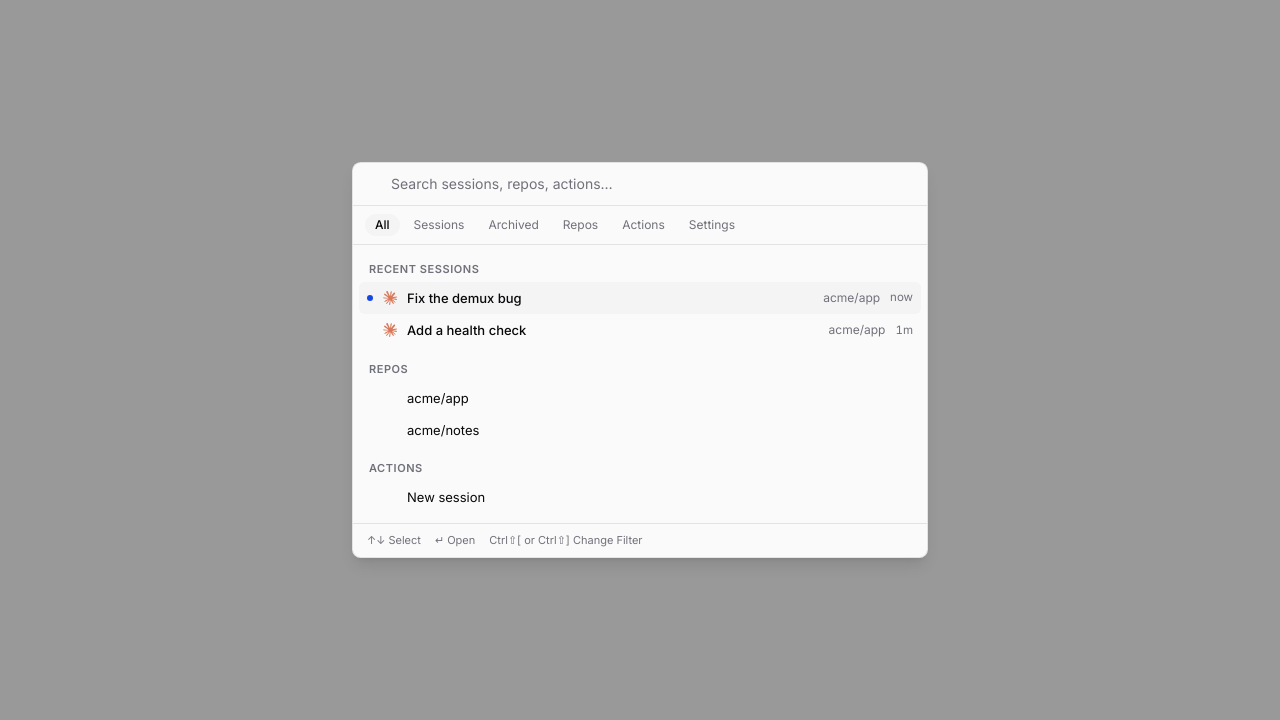
Scenario: SearchPalette › shows archived sessions on the archived tab
Check: the option "old work" is not shown
Click the tab "Archived" at [514, 225], box left=478, top=214, right=549, bottom=236
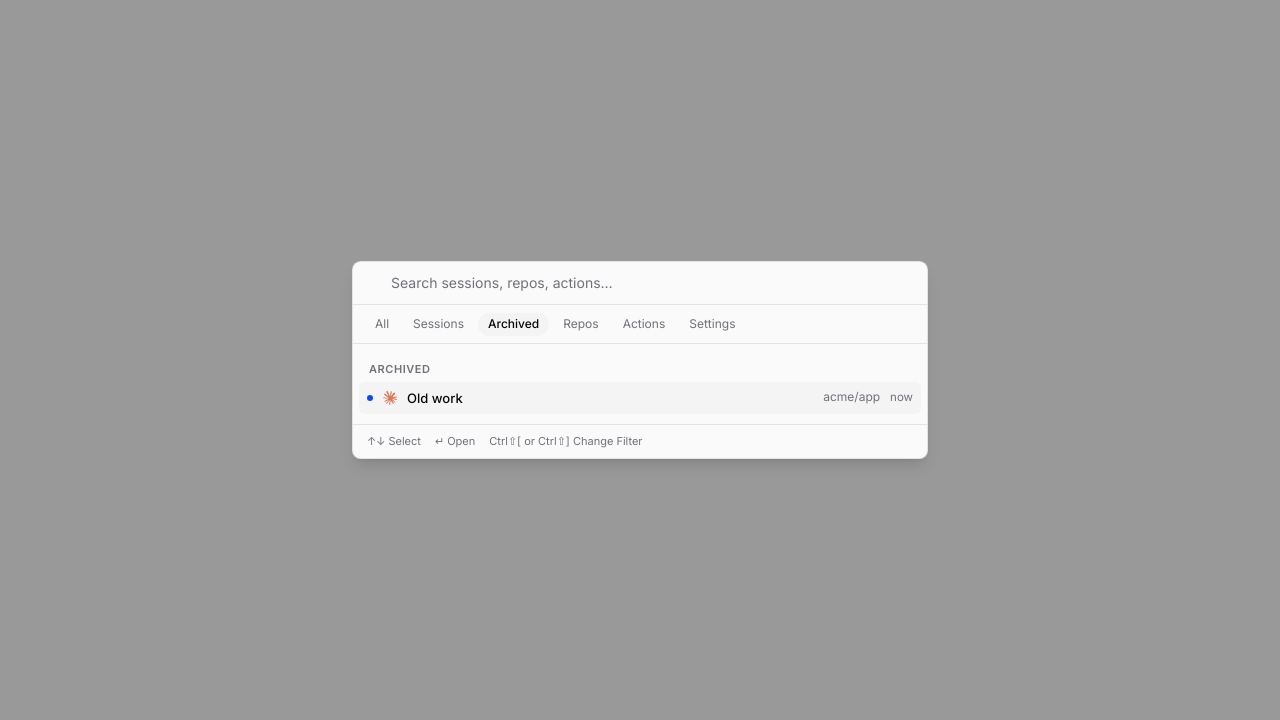
Check: the option "Old work acme/app now" is shown, box left=359, top=382, right=921, bottom=414
Check: the option "Fix the demux bug" is gone
